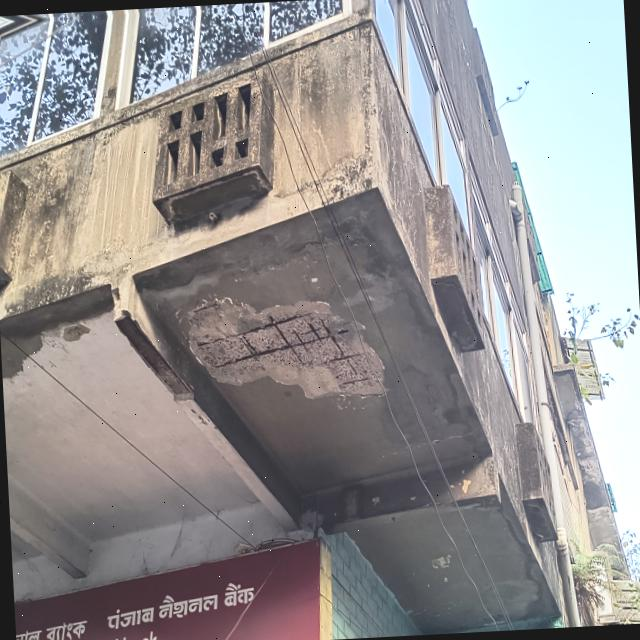spalling: (189, 298, 382, 398)
